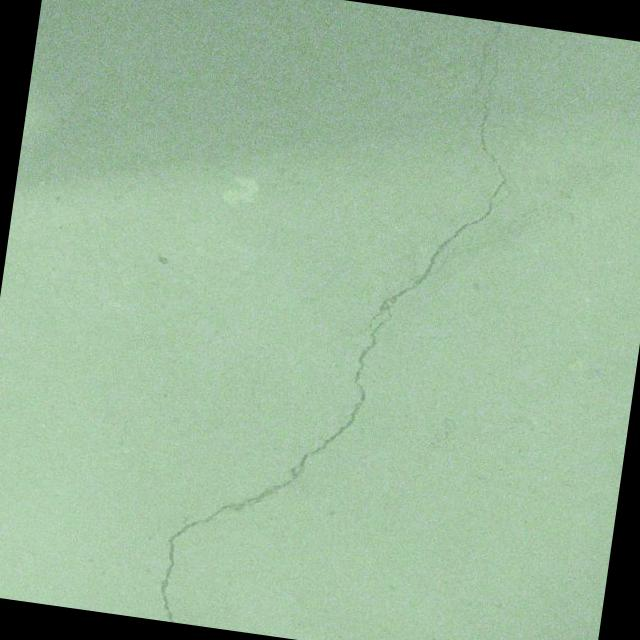crack: (155, 0, 536, 640), (483, 99, 636, 262), (394, 8, 432, 45)
